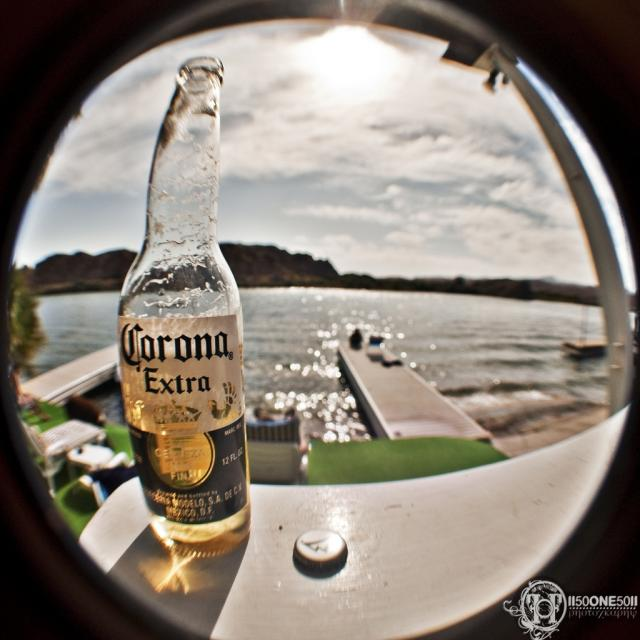corona: (118, 315, 248, 524)
